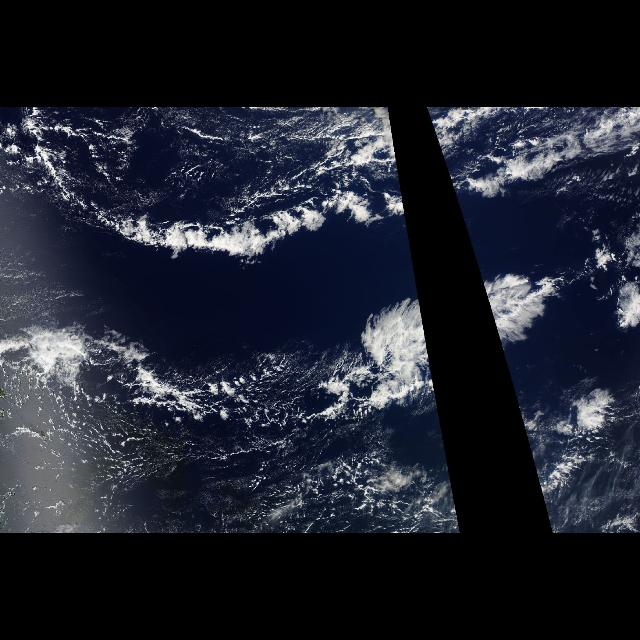Fish: (28, 166, 392, 266), (314, 372, 444, 443)
Gravel: (4, 395, 282, 529)
